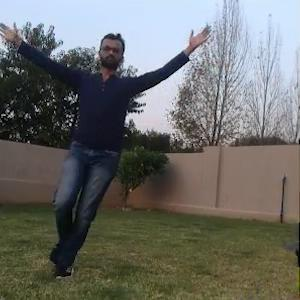takeoff: (6, 19, 204, 270)
